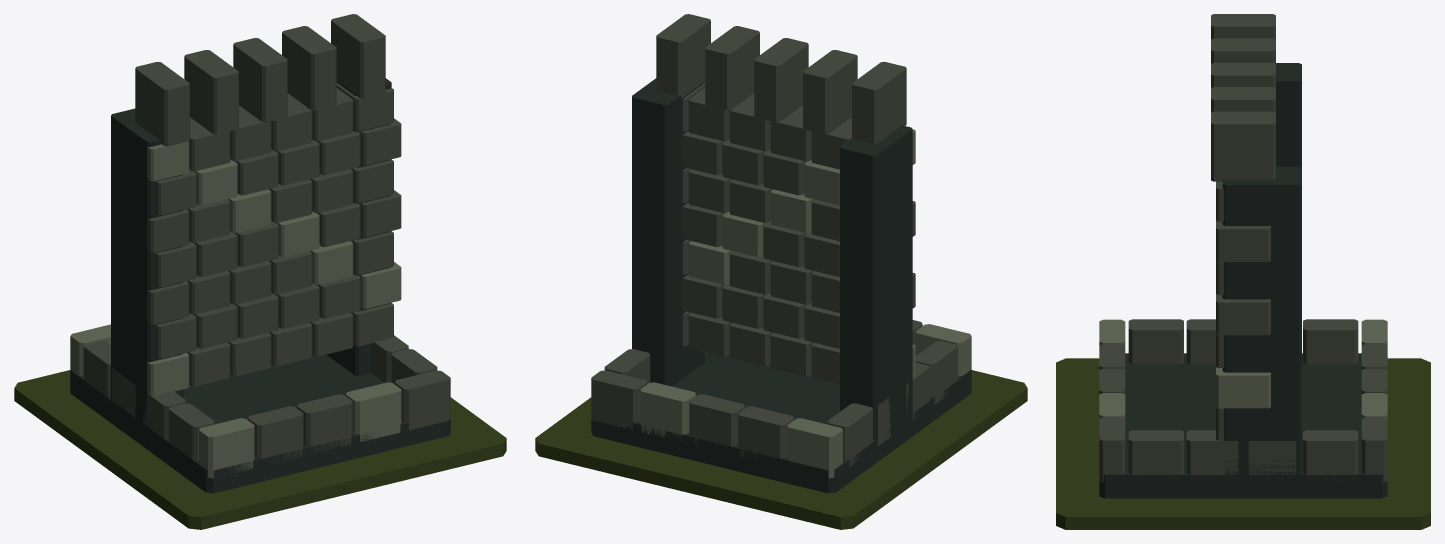
File: stonewall_t4.glb
3 views of the same model, side by side, from view 1: azimuth 30°, elevation 25°; view 2: azimuth 150°, elevation 25°; view 3: azimuth 270°, elevation 25° (orthographic). The views are drawn at different scales.
Parts seen in each view (by area): view 1: MMR | stonewall | T04 Architecture.001, MMR | stonewall | Tier 04 Ground.001; view 2: MMR | stonewall | T04 Architecture.001, MMR | stonewall | Tier 04 Ground.001; view 3: MMR | stonewall | T04 Architecture.001, MMR | stonewall | Tier 04 Ground.001.
Part boxes in pixels (<box>): MMR | stonewall | T04 Architecture.001: <box>70,14,450,493</box>; MMR | stonewall | Tier 04 Ground.001: <box>14,370,506,529</box>; MMR | stonewall | T04 Architecture.001: <box>591,14,971,493</box>; MMR | stonewall | Tier 04 Ground.001: <box>535,370,1027,529</box>; MMR | stonewall | T04 Architecture.001: <box>1099,14,1387,498</box>; MMR | stonewall | Tier 04 Ground.001: <box>1056,358,1430,529</box>.
Size of the model in its own units: 1.3 by 1.46 by 1.3.
1 material, 1 textured.
